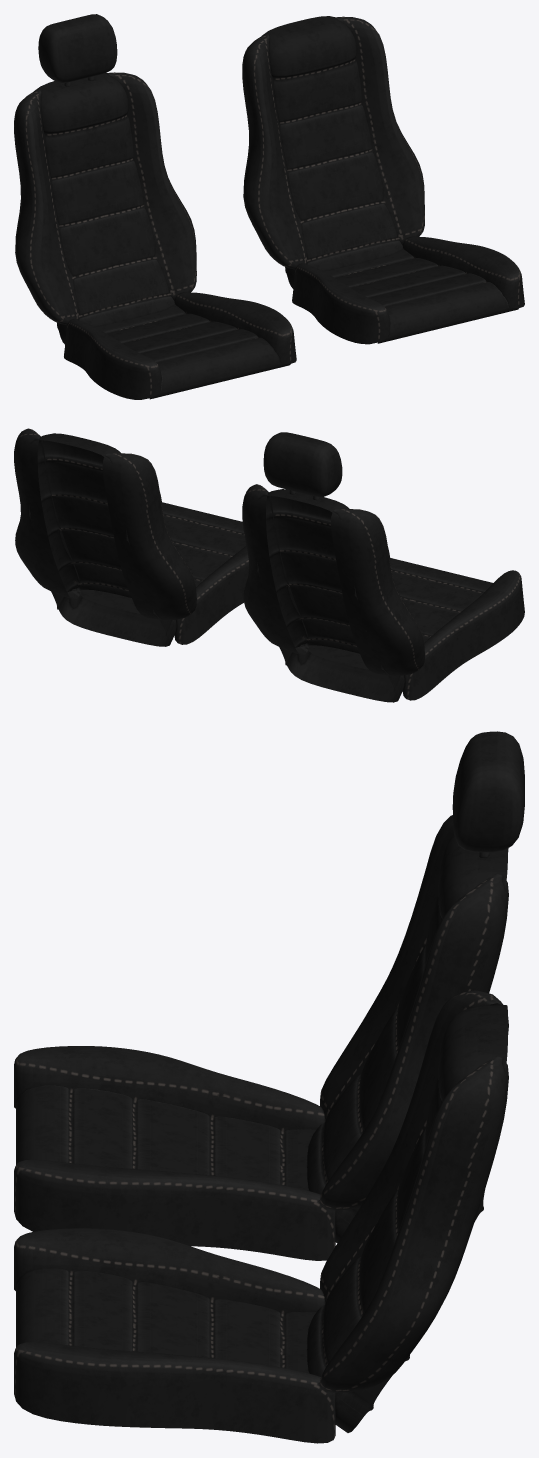
The model's file is korsi 2.fbx.
3 views of the same model, one above another, from view 1: azimuth 30°, elevation 25°; view 2: azimuth 150°, elevation 25°; view 3: azimuth 270°, elevation 25° (orthographic). The views are drawn at different scales.
Visible parts, largest first — view 1: Plane.003, Plane.004, Plane.001, Plane.002, Cube; view 2: Plane.004, Plane.003, Plane.001, Plane.002, Cube; view 3: Plane.002, Plane.004, Plane.001, Plane.003, Cube.
Part boxes in pixels (bbox=[...]): Plane.003: bbox=[33, 16, 403, 344]; Plane.004: bbox=[14, 16, 424, 325]; Plane.001: bbox=[95, 248, 518, 399]; Plane.002: bbox=[64, 237, 524, 399]; Cube: bbox=[38, 14, 117, 82]; Plane.004: bbox=[14, 428, 424, 675]; Plane.003: bbox=[29, 433, 404, 702]; Plane.001: bbox=[78, 502, 493, 669]; Plane.002: bbox=[69, 491, 524, 700]; Cube: bbox=[263, 432, 342, 497]; Plane.002: bbox=[14, 1046, 335, 1443]; Plane.004: bbox=[320, 815, 508, 1392]; Plane.001: bbox=[16, 1085, 316, 1373]; Plane.003: bbox=[307, 835, 507, 1432]; Cube: bbox=[452, 731, 524, 852].
Bounding box in the file's own units: 159 × 107 × 105.
Materials: 1 (1 with a texture image).
